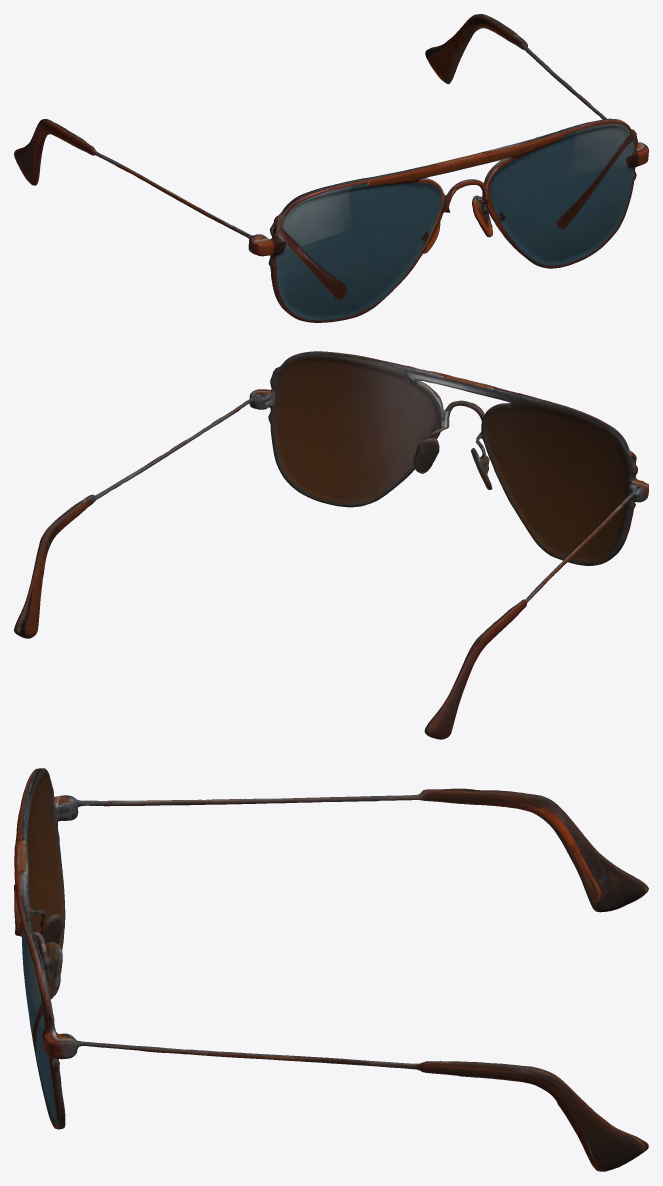
File: sunglasses2.glb
3 renders of one model, top to bottom at view 1: azimuth 30°, elevation 25°; view 2: azimuth 150°, elevation 25°; view 3: azimuth 270°, elevation 25°, orthographic. The views are drawn at different scales.
Visible parts, largest first — view 1: Mesh_0; view 2: Mesh_0; view 3: Mesh_0.
Part boxes in pixels (left/top/right/bottom): Mesh_0: left=14, top=14, right=648, bottom=322; Mesh_0: left=14, top=351, right=648, bottom=739; Mesh_0: left=14, top=768, right=648, bottom=1171.
Size of the model in its own units: 2 by 0.6243 by 1.93.
Materials: 1 (1 with a texture image).
